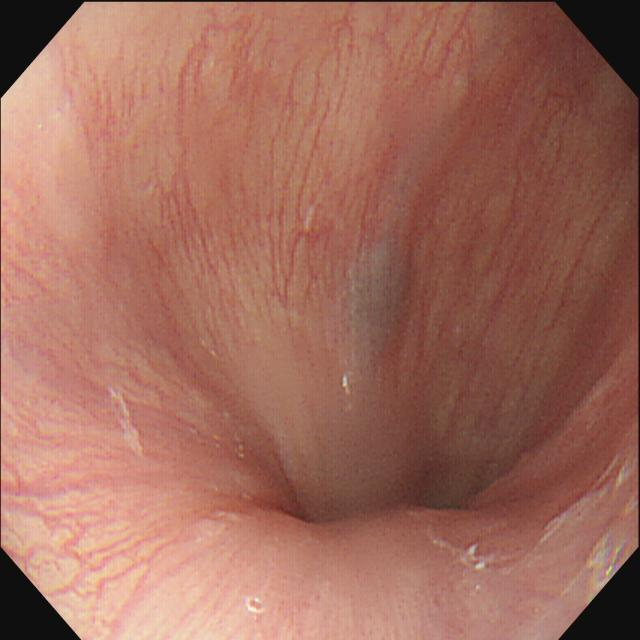E: (266, 423, 515, 534)
J: (535, 449, 640, 582), (443, 529, 491, 588), (110, 382, 144, 458)
